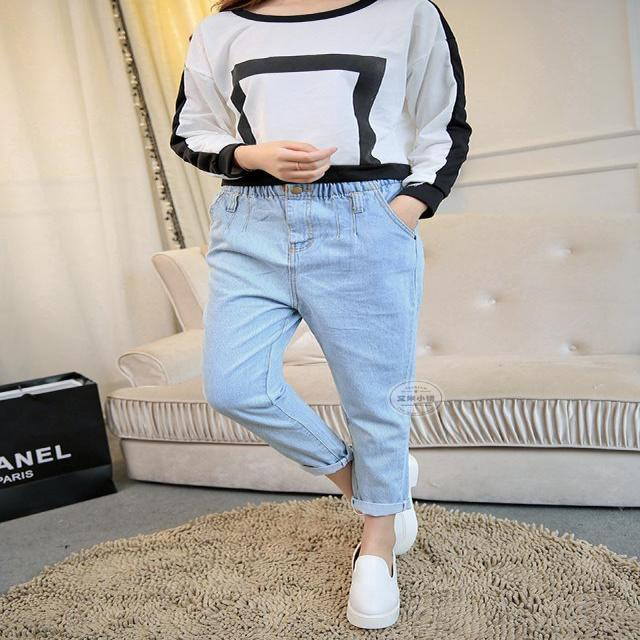long sleeve top: (173, 0, 471, 211)
trousers: (215, 176, 418, 510)
